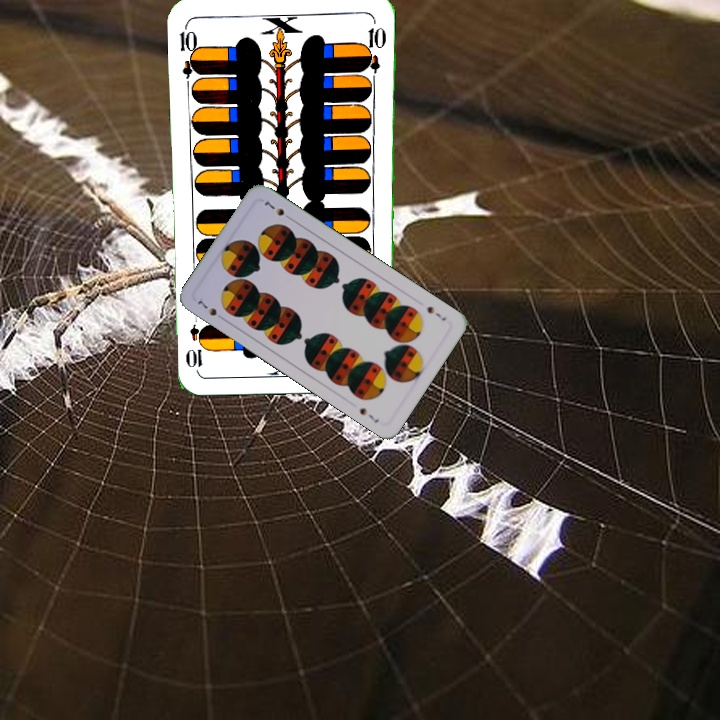E10: (175, 21, 202, 80)
S7: (193, 296, 228, 323), (423, 302, 449, 323)
